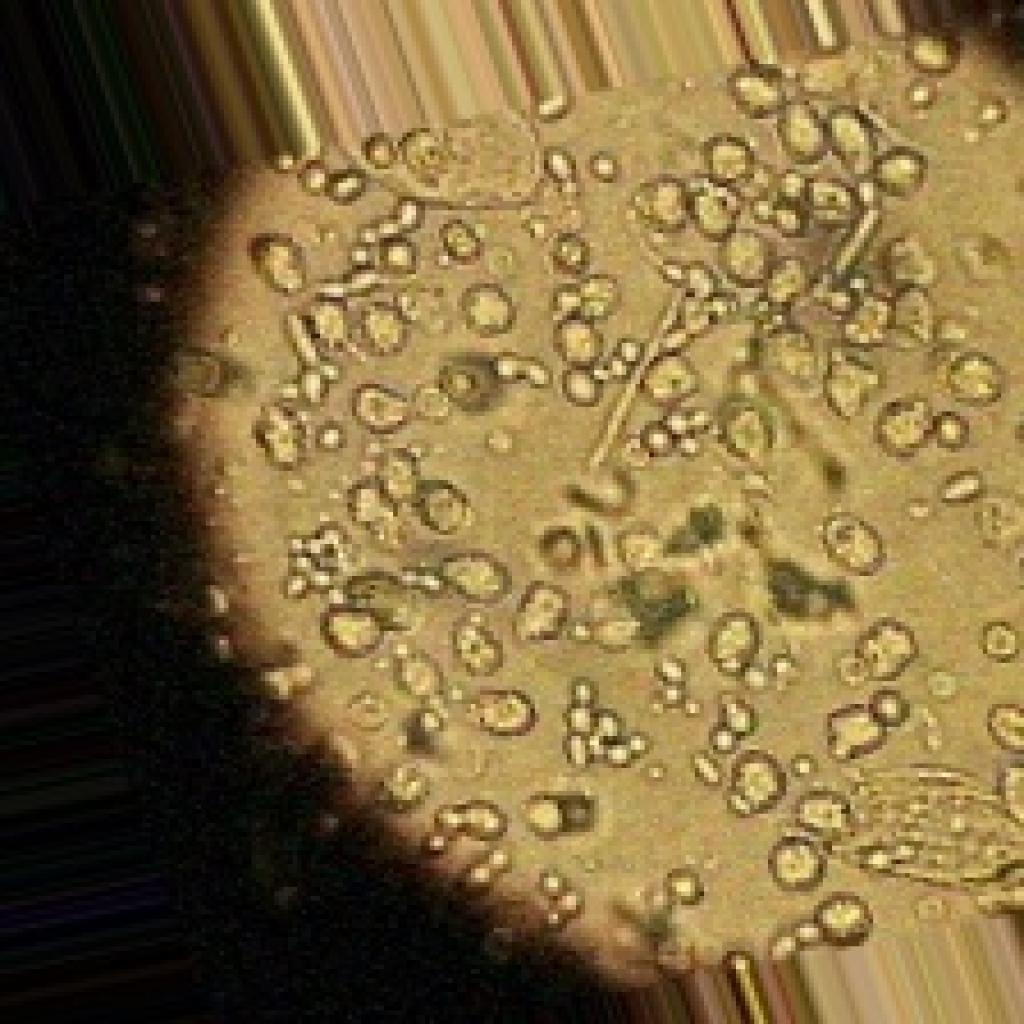Yeast: (66, 72, 1024, 1024)
